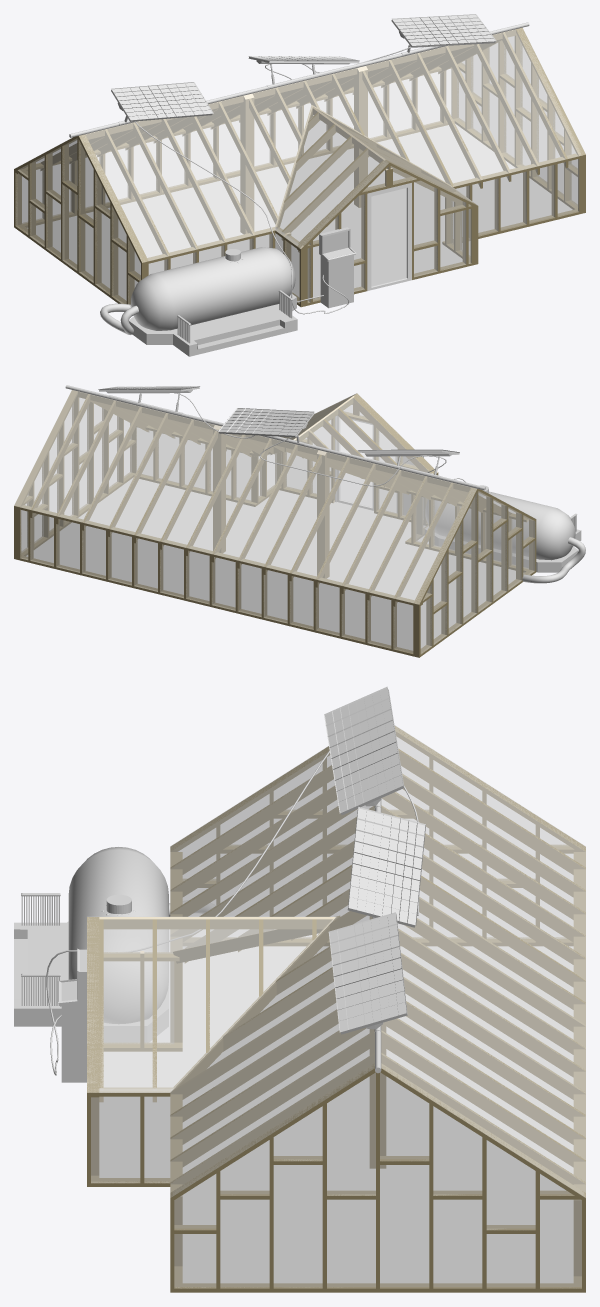
Rendered from Теплица.fbx.
3 views of the same model, one above another, from view 1: azimuth 30°, elevation 25°; view 2: azimuth 150°, elevation 25°; view 3: azimuth 270°, elevation 25° (orthographic). The views are drawn at different scales.
Visible parts, largest first — view 1: component6, component1, component0, Плоскость, Цилиндр.005, Куб.016, component3, Куб, Куб.010, Куб.015, Цилиндр, component9 (+5 smaller); view 2: component6, component1, component0, Плоскость, Цилиндр.005, Куб.005, Цилиндр, Куб.016, КриваяБезье, Куб.010, Куб, КриваяБезье.001 (+1 smaller); view 3: component6, component1, Плоскость, component0, Цилиндр.005, Куб.010, Куб.005, Куб, Куб.016, Куб.015, Куб.018, КриваяБезье.001 (+1 smaller).
Part boxes in pixels (x1,y1,x2,y2): component6: (15,28,585,262); component1: (14,28,585,307); component0: (15,36,579,306); Плоскость: (27,124,572,300); Цилиндр.005: (131,247,295,330); Куб.016: (129,294,297,356); component3: (371,188,406,286); Куб: (111,82,213,121); Куб.010: (391,14,496,47); Куб.015: (319,227,356,308); Цилиндр: (69,22,529,137); component9: (369,185,410,290); component6: (14,390,533,604); component1: (14,390,536,657); component0: (20,398,535,653); Плоскость: (26,477,523,650); Цилиндр.005: (425,485,575,560); Куб.005: (218,408,314,437); Цилиндр: (65,385,485,490); Куб.016: (425,526,581,572); КриваяБезье: (522,537,585,583); Куб.010: (98,386,199,393); Куб: (358,449,459,456); КриваяБезье.001: (174,393,465,486); component6: (87,725,585,1197); component1: (87,726,585,1292); Плоскость: (99,946,573,1283); component0: (91,737,581,1288); Цилиндр.005: (68,847,168,1023); Куб.010: (328,912,407,1034); Куб.005: (347,807,425,927); Куб: (324,686,404,815); Куб.016: (14,921,168,1042); Куб.015: (57,948,86,1082); Куб.018: (21,893,60,1005); КриваяБезье.001: (46,751,419,1075).
Size of the model in its own units: 1099 by 383 by 688.
